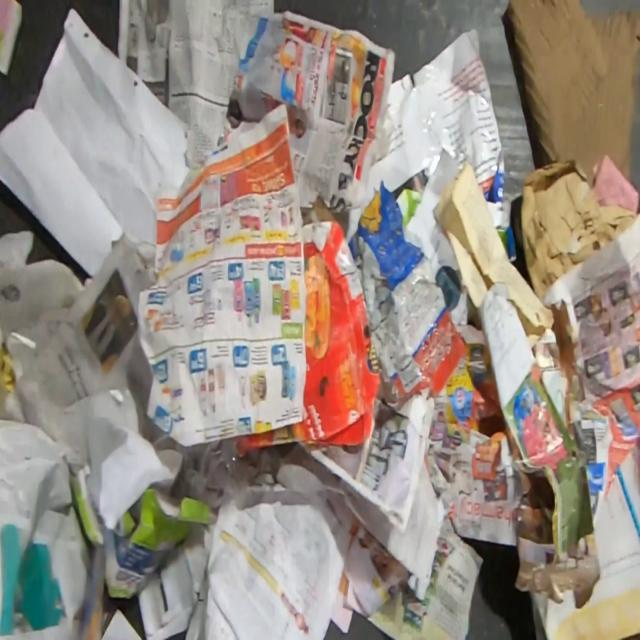cardboard: (233, 220, 381, 457), (347, 179, 469, 401), (505, 0, 640, 190), (67, 460, 221, 601)
